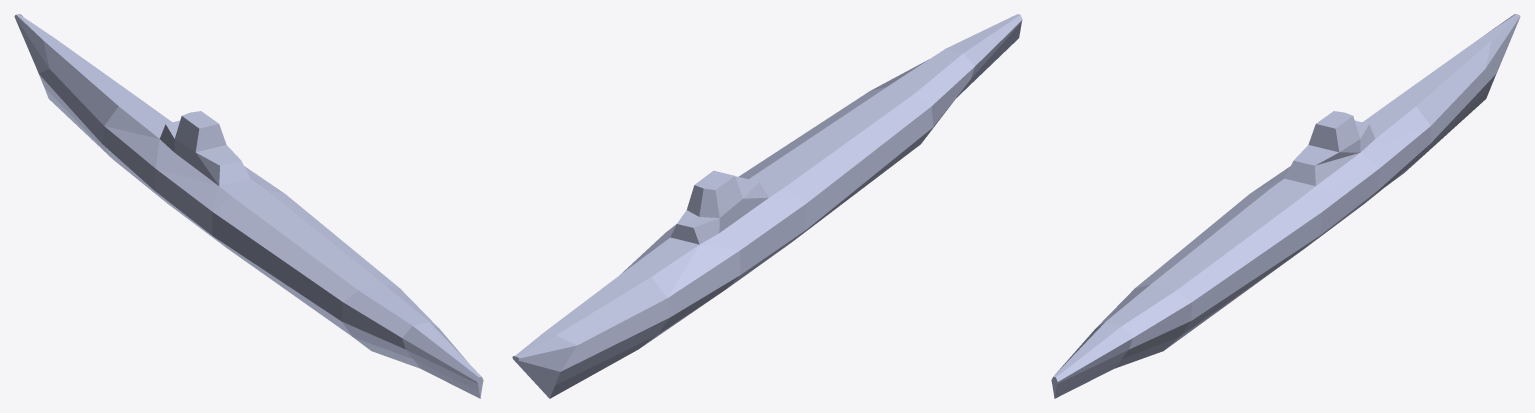
File: Submarine.glb
The picture shows the model from 3 angles, left to right: view 1: azimuth 30°, elevation 25°; view 2: azimuth 150°, elevation 25°; view 3: azimuth 330°, elevation 25°; orthographic projection. The views are drawn at different scales.
Parts seen in each view (by area): view 1: Cylinder_1, Cylinder_0, Cylinder_2; view 2: Cylinder_1, Cylinder_0, Cylinder_2; view 3: Cylinder_1, Cylinder_0, Cylinder_2.
Part boxes in pixels (<box>): Cylinder_1: <box>14,14,483,398</box>; Cylinder_0: <box>15,17,480,398</box>; Cylinder_2: <box>159,111,250,186</box>; Cylinder_1: <box>512,14,1022,361</box>; Cylinder_0: <box>516,20,1022,398</box>; Cylinder_2: <box>670,170,768,244</box>; Cylinder_1: <box>1051,14,1520,398</box>; Cylinder_0: <box>1054,17,1519,398</box>; Cylinder_2: <box>1284,111,1375,186</box>.
Bounding box in the file's own units: 0.8936 × 1.24 × 9.82.
